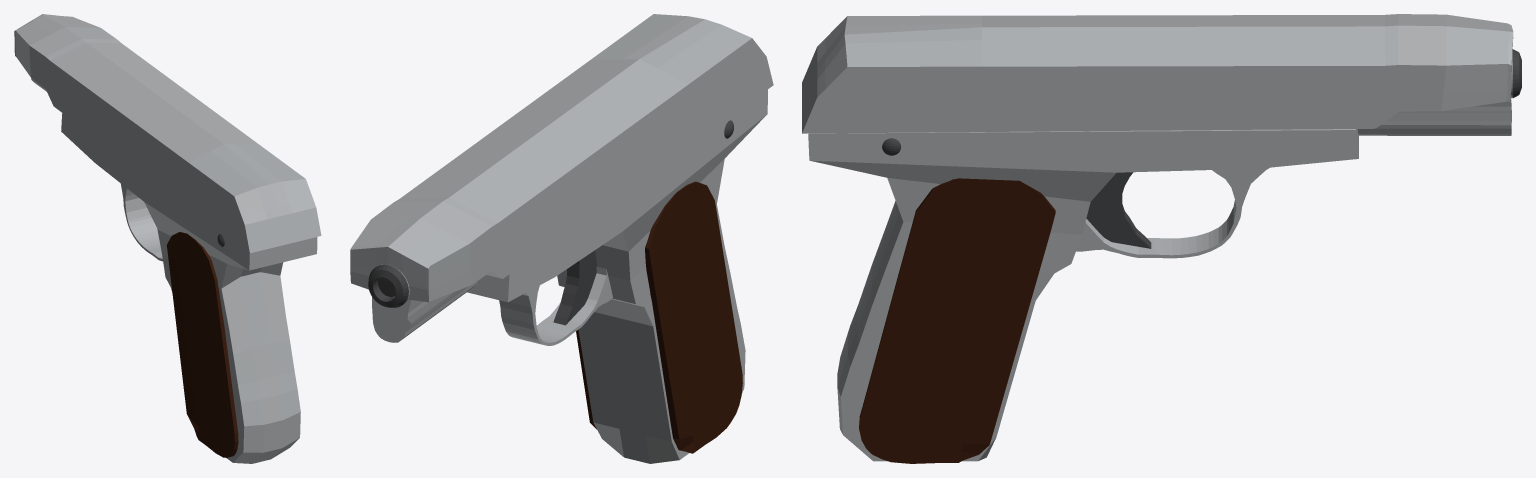
The model's file is Pistol1.fbx.
The picture shows the model from 3 angles, left to right: view 1: azimuth 30°, elevation 25°; view 2: azimuth 150°, elevation 25°; view 3: azimuth 270°, elevation 25°; orthographic projection. The views are drawn at different scales.
Visible parts, largest first — view 1: Cube.000; view 2: Cube.000; view 3: Cube.000.
Part boxes in pixels (bbox=[...]): Cube.000: bbox=[14, 14, 321, 463]; Cube.000: bbox=[350, 14, 773, 463]; Cube.000: bbox=[802, 14, 1521, 463].
Bounding box in the file's own units: 79.58 × 305 × 468.
